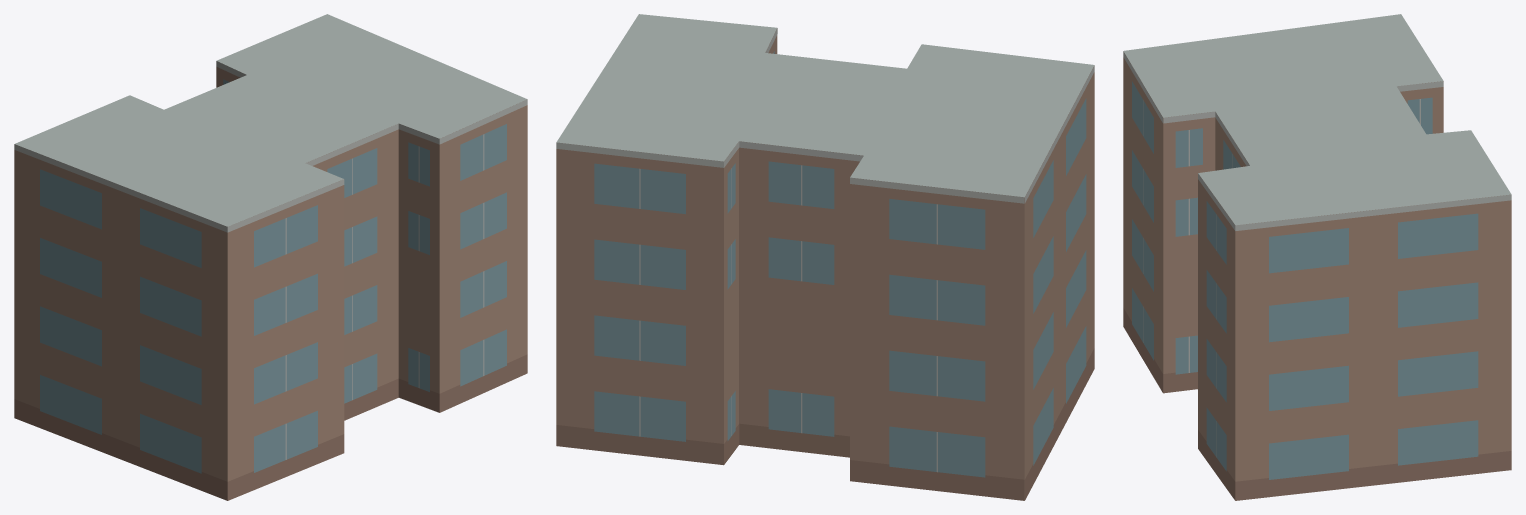
The model's file is survey-upis-32693124.glb.
3 views of the same model, side by side, from view 1: azimuth 30°, elevation 25°; view 2: azimuth 150°, elevation 25°; view 3: azimuth 270°, elevation 25° (orthographic). The views are drawn at different scales.
Visible parts, largest first — view 1: survey-upis-32693124.tmp; view 2: survey-upis-32693124.tmp; view 3: survey-upis-32693124.tmp.
Boxes of the visible parts, x1=… form: survey-upis-32693124.tmp: x1=14, y1=14, x2=527, y2=500; survey-upis-32693124.tmp: x1=556, y1=14, x2=1094, y2=500; survey-upis-32693124.tmp: x1=1123, y1=14, x2=1511, y2=500.
Size of the model in its own units: 19.01 by 11.55 by 14.76.
